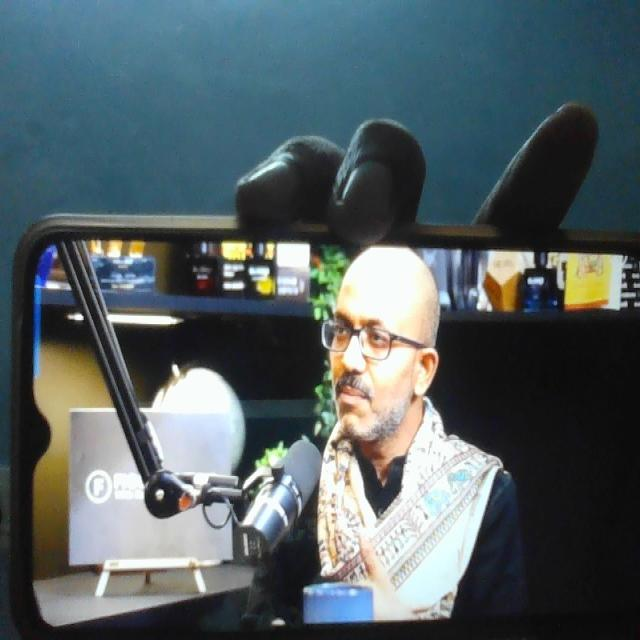fake: (309, 214, 436, 454)
